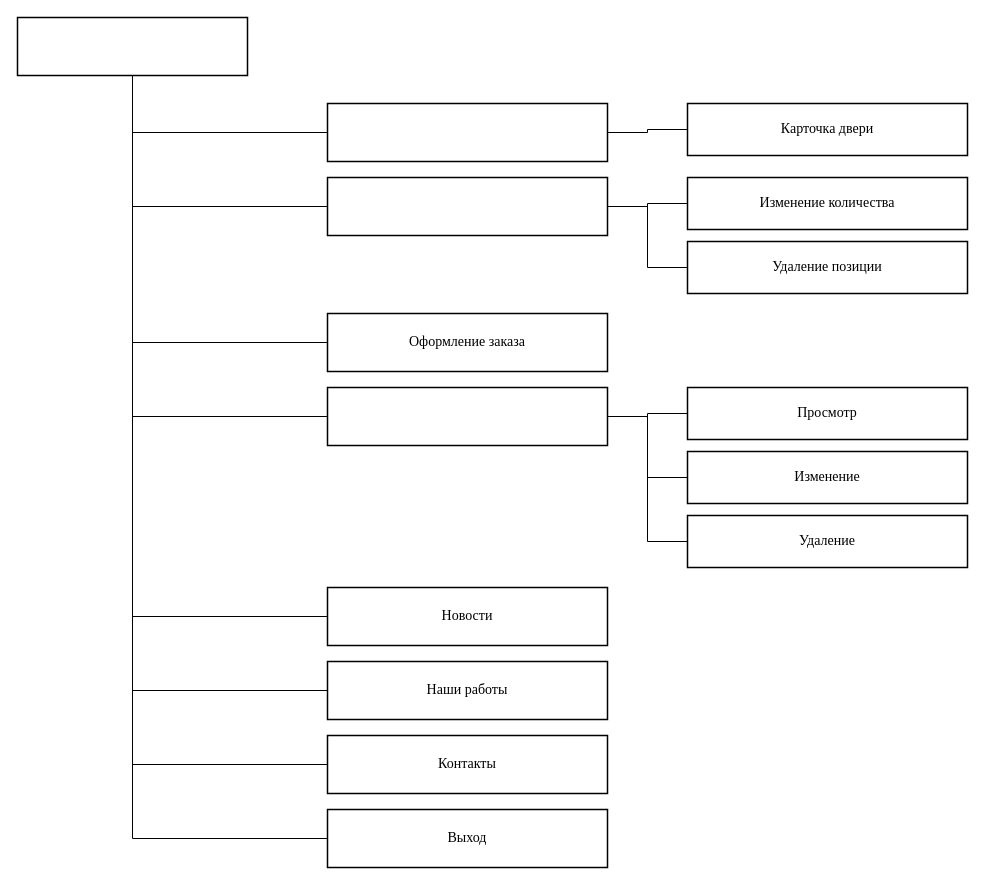
Image size: 986x886. Some labels were removed from this diagram. Here are the shapes that lost their labels. From the top down, the centre of each, then its label:
(132,46): Главная
(467,132): Каталог
(467,206): Корзина
(467,416): Мои заказы
